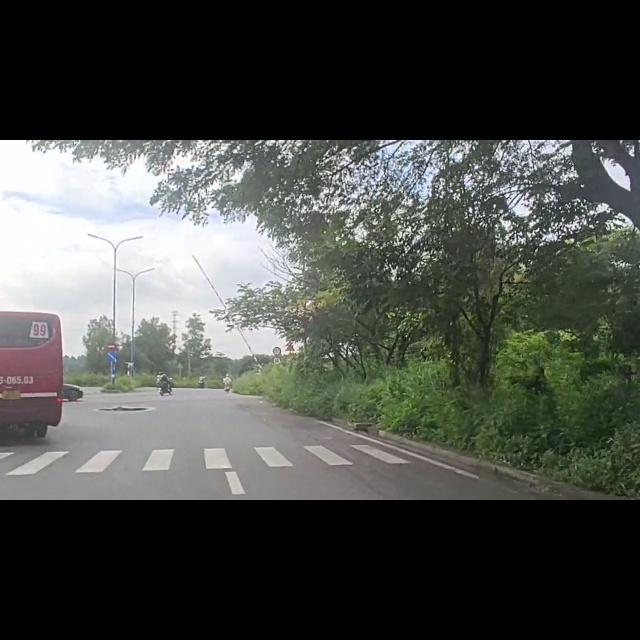bien_nguy_hiem: (106, 373, 118, 391), (107, 361, 118, 373), (274, 384, 281, 398)
